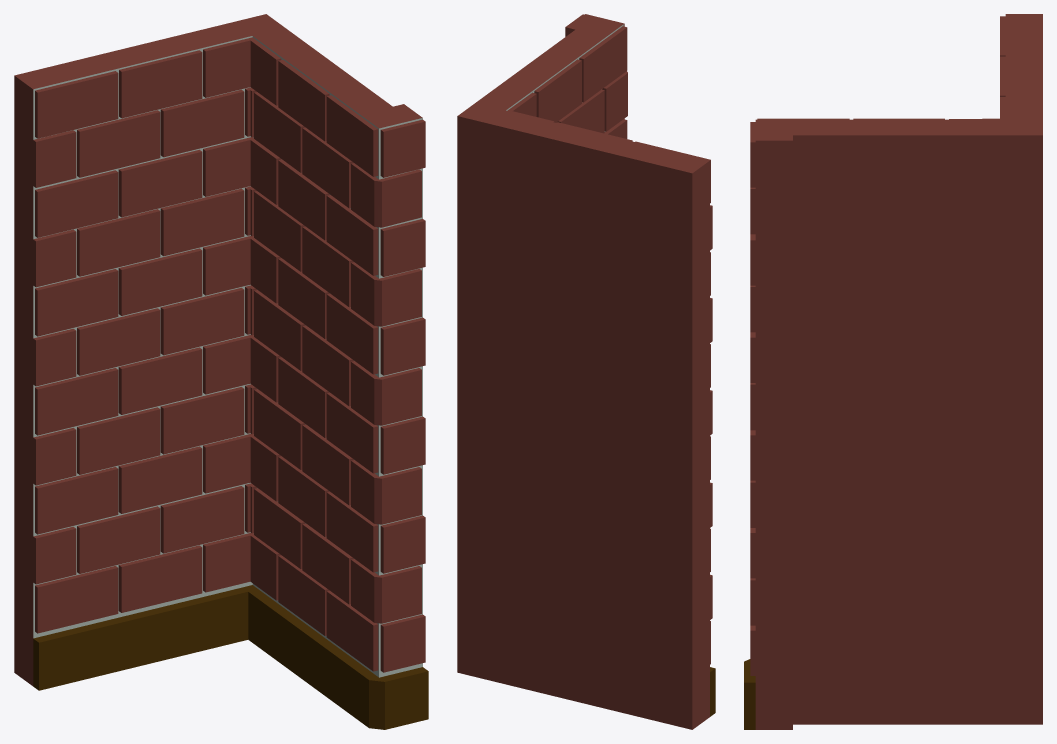
File: R_Wall_SideDoor_Corner_1.fbx
3 views of the same model, side by side, from view 1: azimuth 30°, elevation 25°; view 2: azimuth 150°, elevation 25°; view 3: azimuth 270°, elevation 25° (orthographic). The views are drawn at different scales.
Parts seen in each view (by area): view 1: R_Wall_SideDoor_Corner_1; view 2: R_Wall_SideDoor_Corner_1; view 3: R_Wall_SideDoor_Corner_1.
Part boxes in pixels (x1,y1,x2,y2): R_Wall_SideDoor_Corner_1: (14,14,428,729); R_Wall_SideDoor_Corner_1: (457,14,715,729); R_Wall_SideDoor_Corner_1: (744,14,1042,729).
Size of the model in its own units: 1044 by 1040 by 2264.
